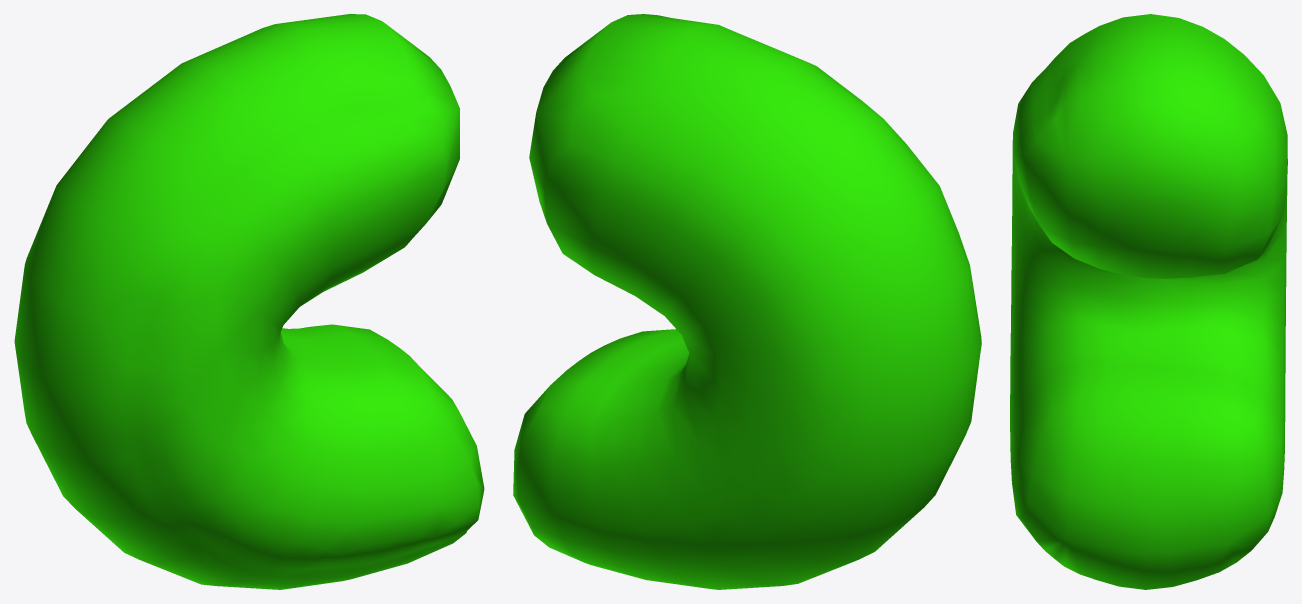
3 renders of one model, left to right at view 1: azimuth 30°, elevation 25°; view 2: azimuth 150°, elevation 25°; view 3: azimuth 270°, elevation 25°, orthographic. The views are drawn at different scales.
Visible parts, largest first — view 1: Object_8; view 2: Object_8; view 3: Object_8.
Part boxes in pixels (bbox=[...]): Object_8: bbox=[14, 14, 484, 589]; Object_8: bbox=[513, 14, 981, 589]; Object_8: bbox=[1010, 14, 1287, 589].
Bounding box in the file's own units: 78.21 × 96.27 × 47.1.
